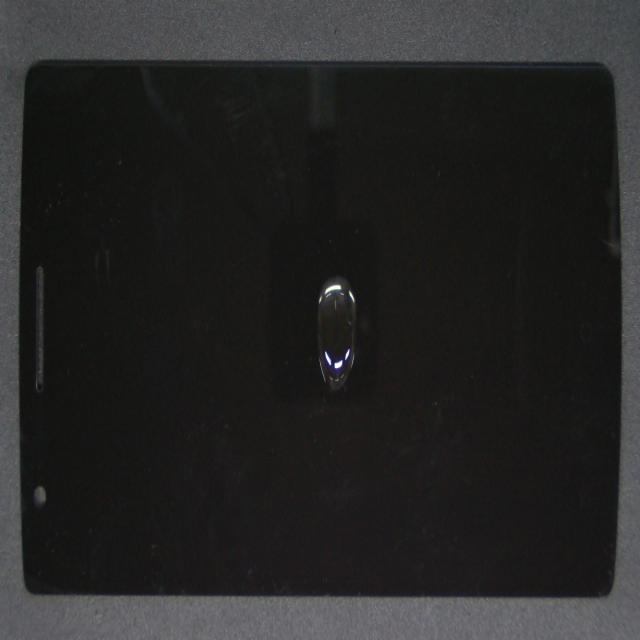oil: (168, 222, 523, 560)
